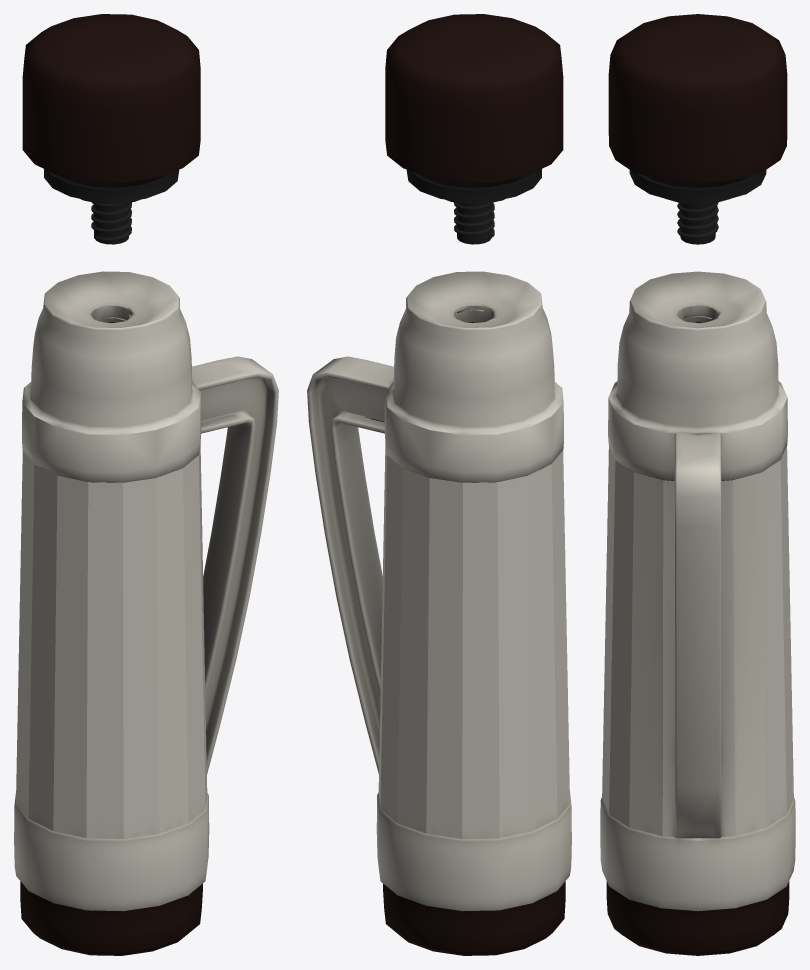
Rendered from objm.glb.
The picture shows the model from 3 angles, left to right: view 1: azimuth 30°, elevation 25°; view 2: azimuth 150°, elevation 25°; view 3: azimuth 270°, elevation 25°; orthographic projection.
Visible parts, largest first — view 1: coffebottle; view 2: coffebottle; view 3: coffebottle.
Boxes of the visible parts, x1=… form: coffebottle: x1=14, y1=14, x2=278, y2=955; coffebottle: x1=307, y1=14, x2=571, y2=955; coffebottle: x1=600, y1=14, x2=795, y2=955.
Bounding box in the file's own units: 0.1008 × 0.3517 × 0.0708.
Materials: 1 (1 with a texture image).
